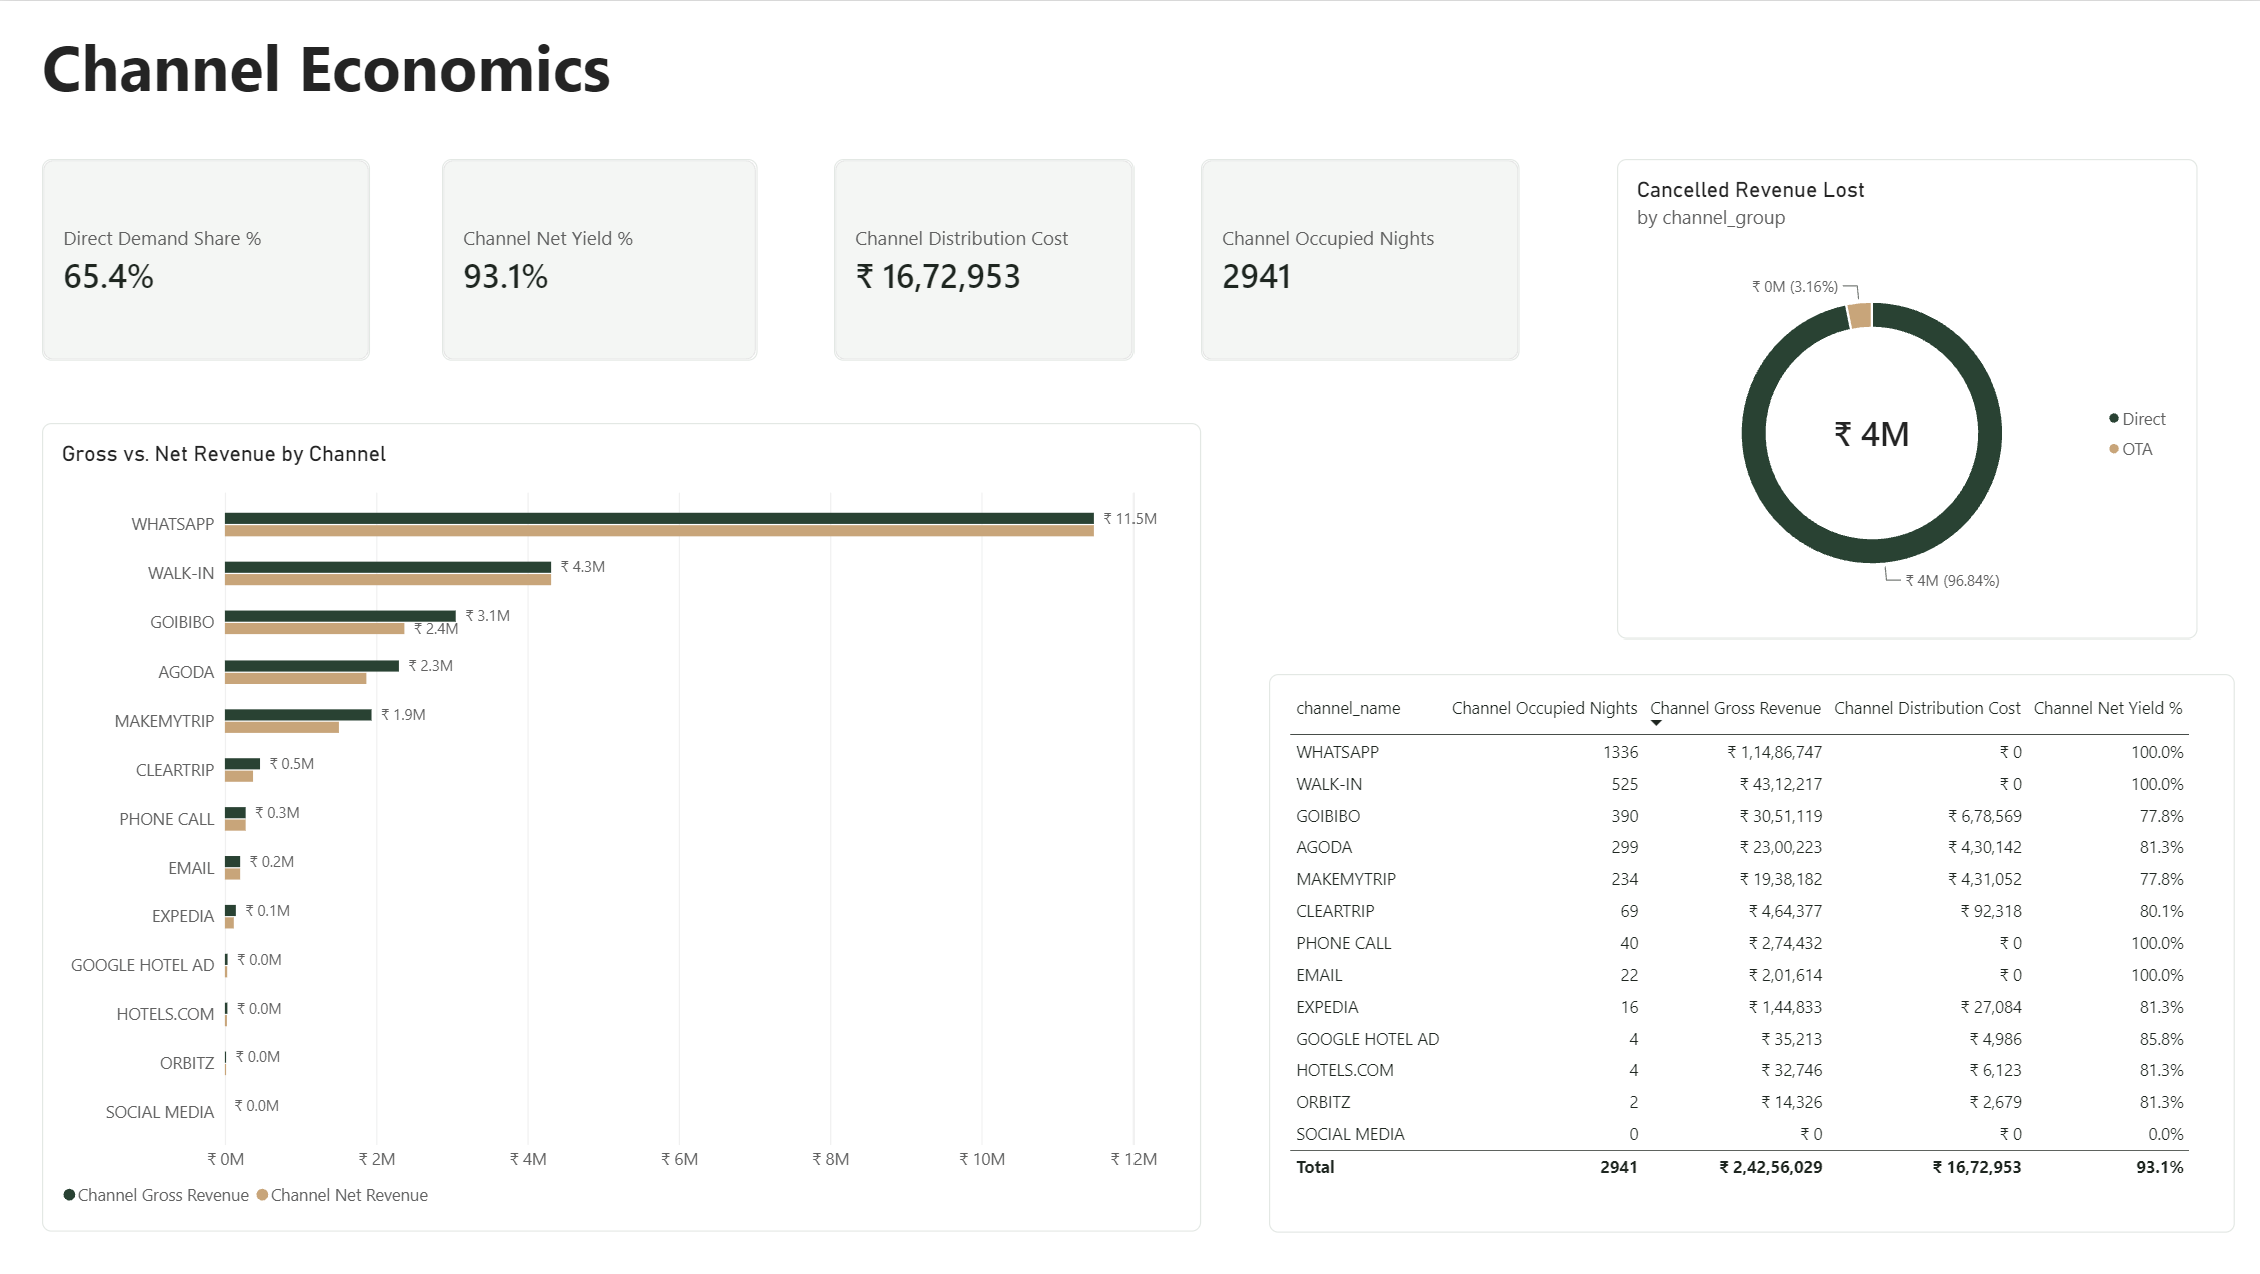

Layout of this report page (visuals, bound fields, positions):
{"tool":"powerbi","page":{"name":"Channel Economics","canvas":[1920,1080],"ordinal":1},"visuals":[{"type":"cardVisual","fields":{"Data":["_Measures.Direct Demand Share %"]},"box":[34.8,133.7,278.1,171.1],"z":0},{"type":"cardVisual","fields":{"Data":["_Measures.Channel Net Yield %"]},"box":[374.4,133.7,267.4,171.1],"z":1000},{"type":"cardVisual","fields":{"Data":["_Measures.Channel Distribution Cost"]},"box":[706,133.7,254,171.1],"z":2000},{"type":"cardVisual","fields":{"Data":["_Measures.Channel Occupied Nights"]},"box":[1016.2,133.7,270.1,171.1],"z":3000},{"type":"clusteredBarChart","title":"Gross vs. Net Revenue by Channel","fields":{"Category":["fct_channel_economics.channel_name"],"Y":["_Measures.Channel Gross Revenue","_Measures.Channel Net Revenue"]},"box":[34.8,358.3,981.4,684.6],"z":4000},{"type":"tableEx","fields":{"Values":["fct_channel_economics.channel_name","_Measures.Channel Occupied Nights","_Measures.Channel Gross Revenue","_Measures.Channel Distribution Cost","_Measures.Channel Net Yield %"]},"box":[1075,569.6,818.3,473.3],"z":5000},{"type":"donutChart","fields":{"Category":["fct_channel_economics.channel_group"],"Y":["_Measures.Cancelled Revenue Lost"]},"box":[1369.1,133.7,492,406.5],"z":6000},{"type":"textbox","box":[34.8,18.7,492,90.9],"z":7000}]}

Visuals, with their boxes in screenshot pixels (x1, y1, x2, y2), scaled from the page's 1920x1080 canvas onto the 2260x1274 screenshot:
cardVisual - _Measures.Direct Demand Share %: rect(41, 158, 368, 360)
cardVisual - _Measures.Channel Net Yield %: rect(441, 158, 755, 360)
cardVisual - _Measures.Channel Distribution Cost: rect(831, 158, 1130, 360)
cardVisual - _Measures.Channel Occupied Nights: rect(1196, 158, 1514, 360)
"Gross vs. Net Revenue by Channel" clusteredBarChart: rect(41, 423, 1196, 1230)
tableEx - fct_channel_economics.channel_name x _Measures.Channel Occupied Nights: rect(1265, 672, 2229, 1230)
donutChart - fct_channel_economics.channel_group x _Measures.Cancelled Revenue Lost: rect(1612, 158, 2191, 637)
textbox: rect(41, 22, 620, 129)
